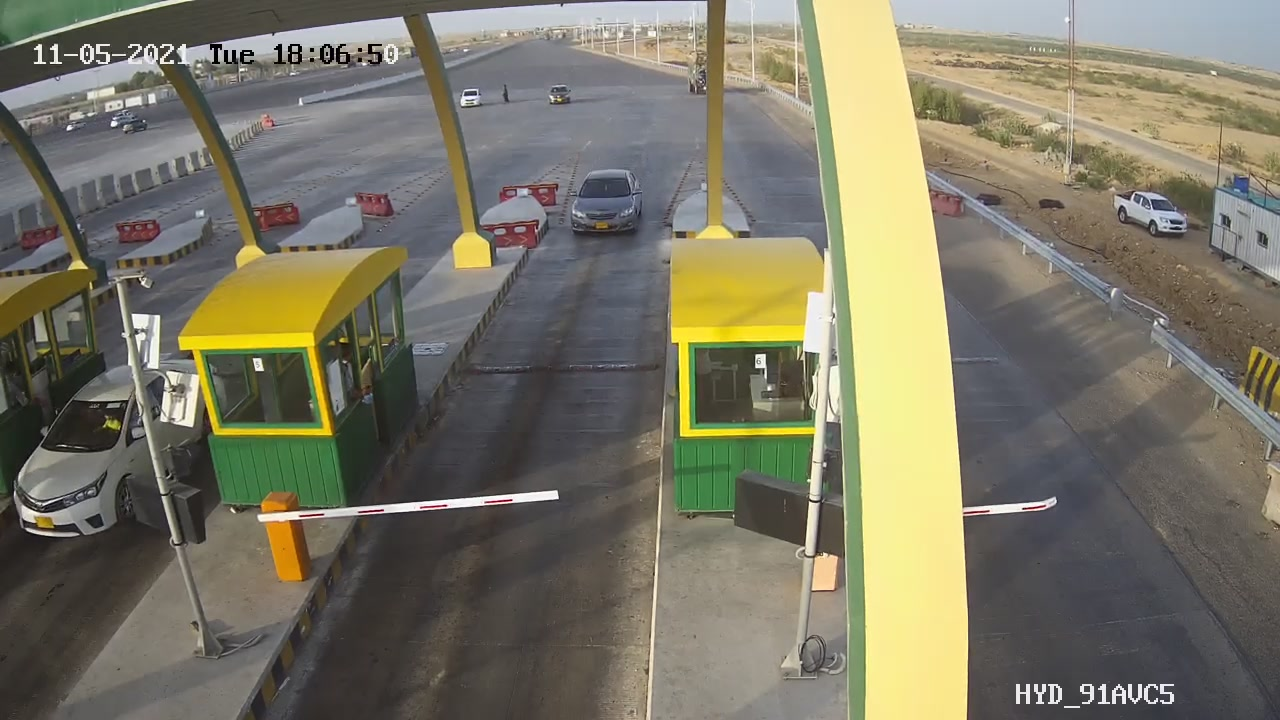F1: (546, 148, 667, 260)
